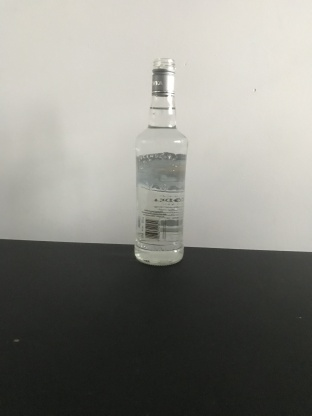nakretka: (150, 56, 177, 97)
